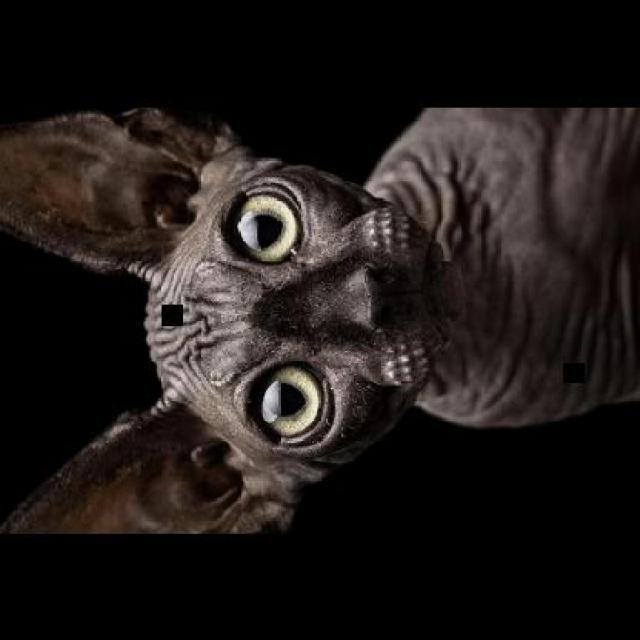unauthorized: (0, 101, 638, 535), (362, 104, 638, 430)
